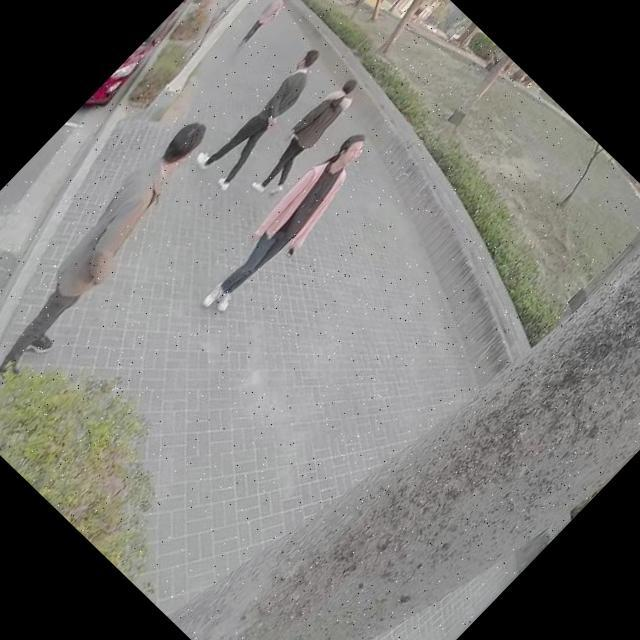person: (0, 115, 233, 382), (192, 126, 384, 324), (192, 39, 342, 192), (292, 74, 363, 146), (233, 0, 294, 51)
